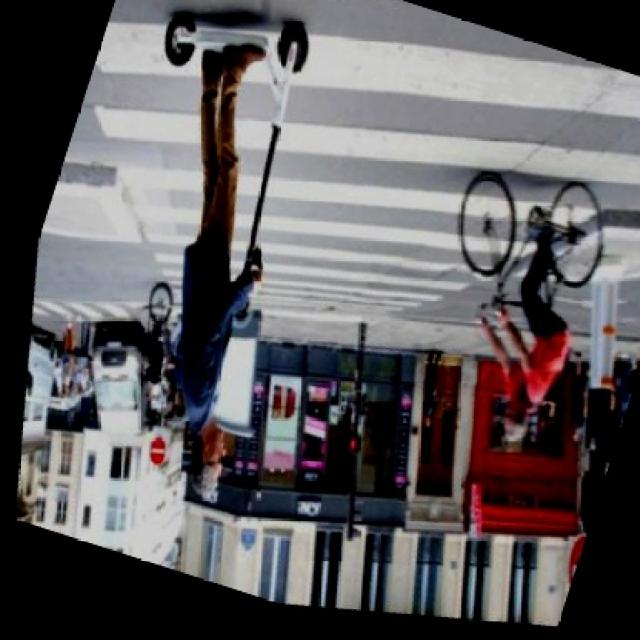bare_head: (168, 426, 263, 526)
human: (168, 44, 277, 429)
kickboard: (142, 2, 388, 102)
